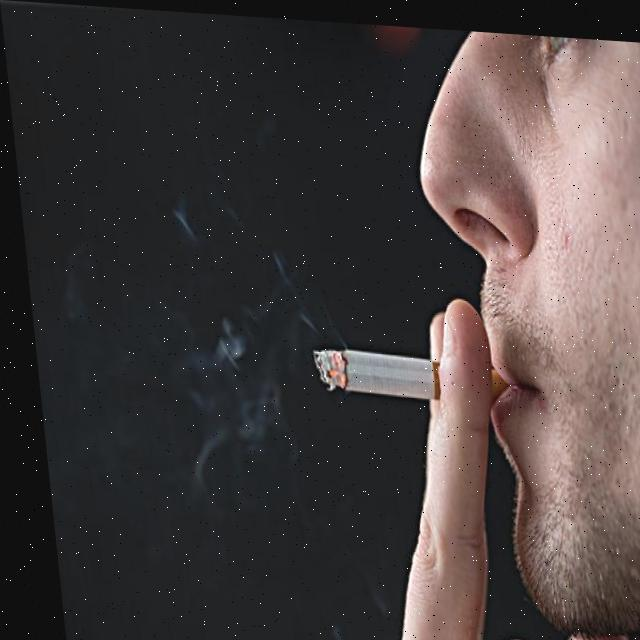cigarette: (301, 344, 434, 393)
